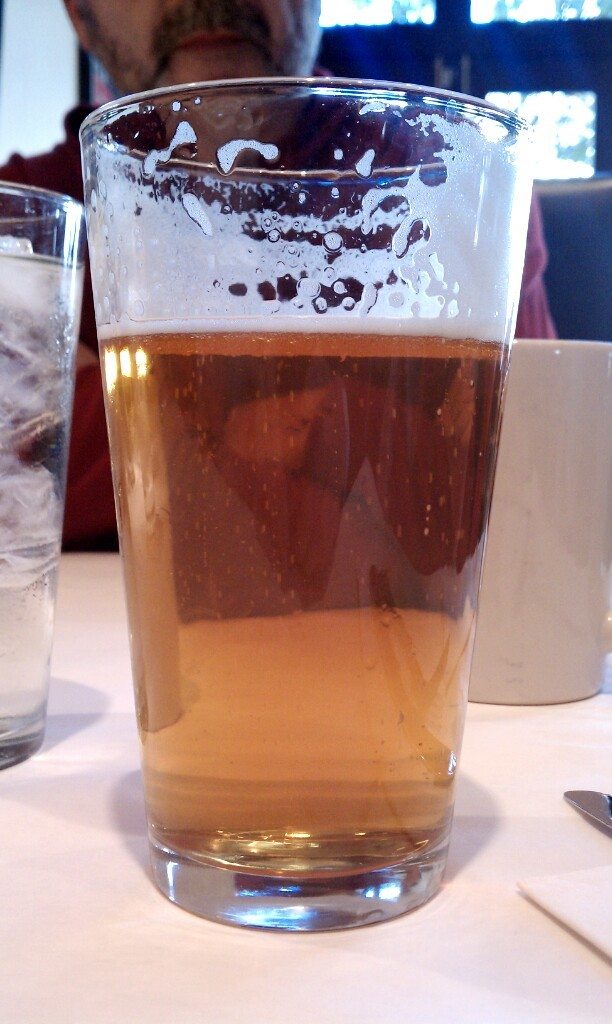Beer: (79, 76, 537, 931)
